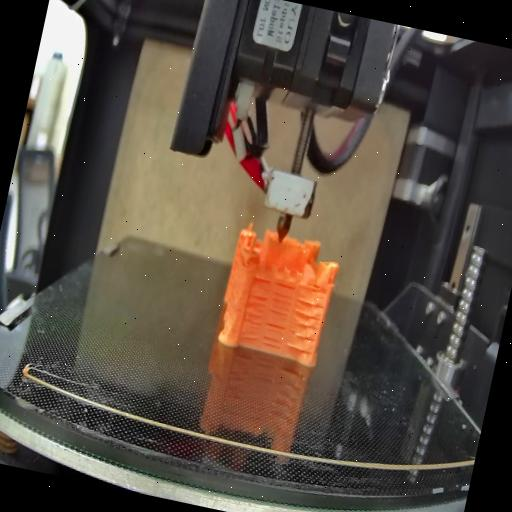cracks: (282, 294, 324, 356), (260, 280, 293, 352), (238, 290, 266, 341), (250, 272, 273, 286)
